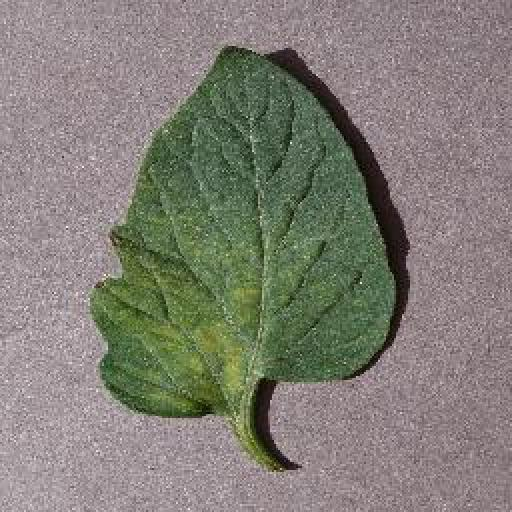disease_tomato: (90, 45, 398, 416)
